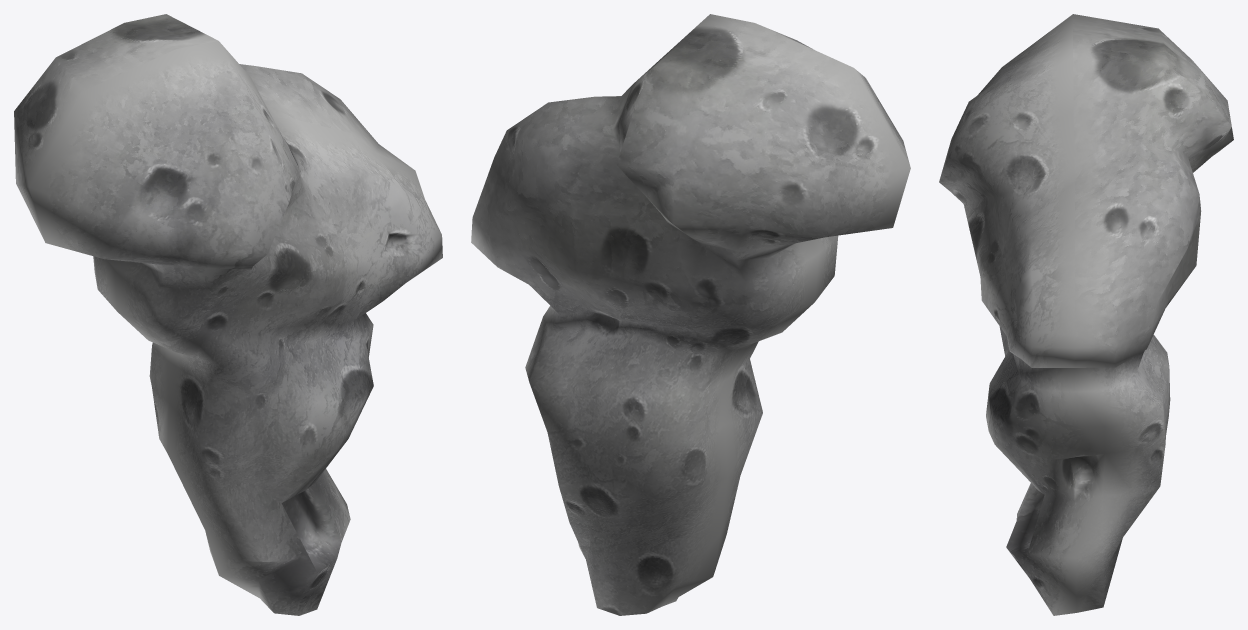
The model's file is Rock3.fbx.
3 renders of one model, left to right at view 1: azimuth 30°, elevation 25°; view 2: azimuth 150°, elevation 25°; view 3: azimuth 270°, elevation 25°, orthographic. The views are drawn at different scales.
Visible parts, largest first — view 1: pCube2; view 2: pCube2; view 3: pCube2.
Part boxes in pixels (x1,y1,x2,y2): pCube2: (14,14,442,615); pCube2: (471,14,910,615); pCube2: (939,14,1233,615).
Size of the model in its own units: 389 by 547 by 279.
Materials: 1 (1 with a texture image).
